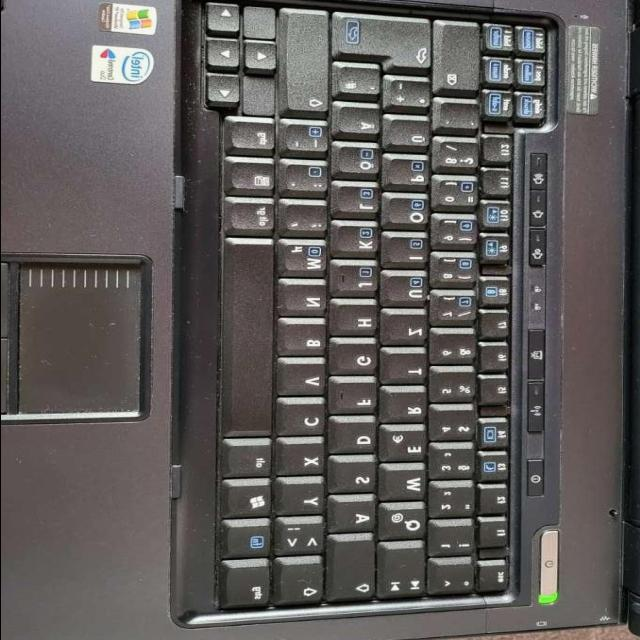0: (434, 177, 481, 211)
1: (430, 525, 477, 558)
2: (431, 485, 479, 521)
3: (432, 448, 479, 482)
4: (432, 411, 480, 443)
5: (433, 373, 480, 405)
6: (432, 334, 480, 366)
7: (432, 292, 480, 326)
8: (432, 254, 480, 288)
9: (433, 216, 480, 250)
a: (331, 499, 379, 535)
accent: (437, 103, 483, 135)
ae: (336, 106, 383, 138)
alt-left: (227, 445, 276, 481)
altgr-right: (227, 201, 278, 238)
b: (280, 322, 331, 358)
c: (279, 404, 329, 438)
caret: (431, 560, 477, 597)
comma: (283, 205, 332, 237)
d: (332, 422, 380, 456)
del: (435, 23, 483, 98)
e: (381, 430, 431, 464)
enter: (335, 14, 437, 74)
f: (332, 384, 381, 416)
g: (333, 345, 381, 377)
h: (333, 304, 381, 338)
hash: (336, 67, 384, 99)
i: (385, 235, 432, 269)
j: (333, 264, 382, 298)
k: (333, 224, 382, 258)
keyboard: (179, 0, 561, 630)
l: (334, 184, 383, 218)
less: (276, 522, 329, 556)
m: (280, 241, 330, 279)
minus: (283, 122, 332, 156)
n: (280, 284, 331, 318)
o: (384, 196, 432, 230)
oe: (334, 145, 383, 177)
p: (387, 157, 433, 189)
plus: (388, 80, 435, 112)
point: (284, 162, 332, 196)
q: (380, 505, 430, 543)
r: (383, 390, 430, 426)
s: (332, 462, 380, 496)
shift-left: (279, 563, 326, 607)
shift-lock: (329, 537, 379, 603)
shift-right: (280, 9, 334, 116)
space: (223, 243, 277, 437)
ss: (435, 140, 483, 174)
strg-left: (227, 567, 274, 611)
strg-right: (229, 122, 279, 156)
t: (384, 354, 432, 386)
tab: (380, 545, 430, 600)
u: (383, 274, 431, 310)
ue: (385, 120, 434, 152)
v: (280, 363, 330, 399)
w: (380, 468, 430, 504)
x: (280, 444, 328, 478)
y: (280, 483, 328, 517)
z: (384, 314, 432, 348)
